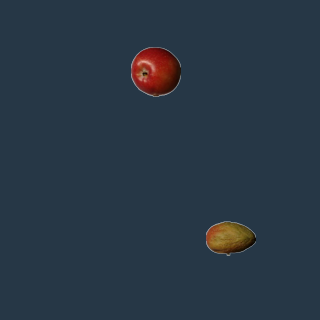Apple Braeburn: (130, 46, 180, 96)
Papaya: (205, 213, 255, 263)
